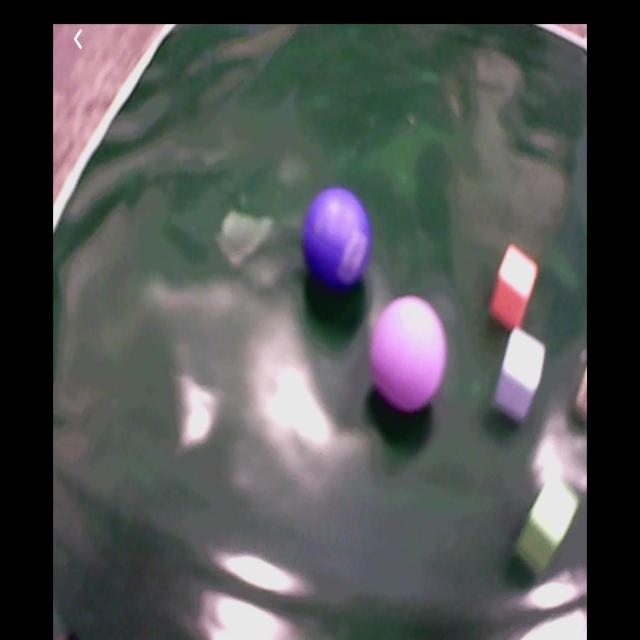ball: (373, 299, 447, 411), (306, 188, 370, 284)
